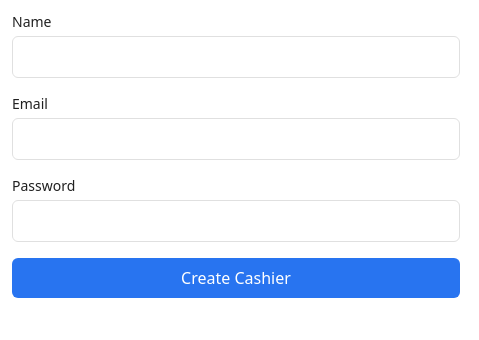
Scenario: CreateCashierForm › shows validation error when name is empty
The image size is (479, 340).
Step 1. Type "cashier@example.com" into the field labelled "Email" → (236, 139), box [12,118,460,160]
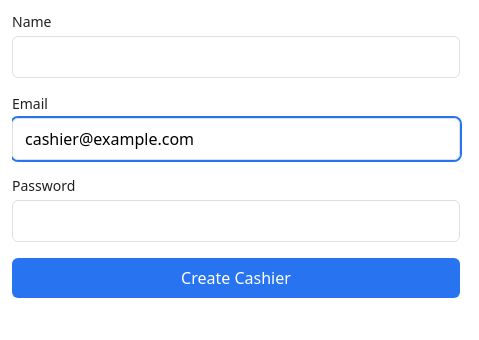
Step 2. Type "SecurePass123!" into the password field labelled "Password" → (236, 221), box [12,200,460,242]
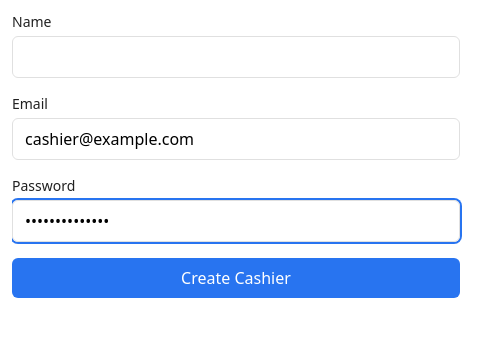
Step 3. Click the button "Create Cashier" → click(236, 278), box [12,258,460,298]
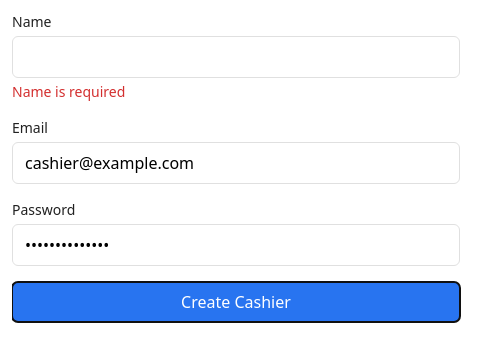
Result: the text "Name is required" is shown at [12,82,125,101]
